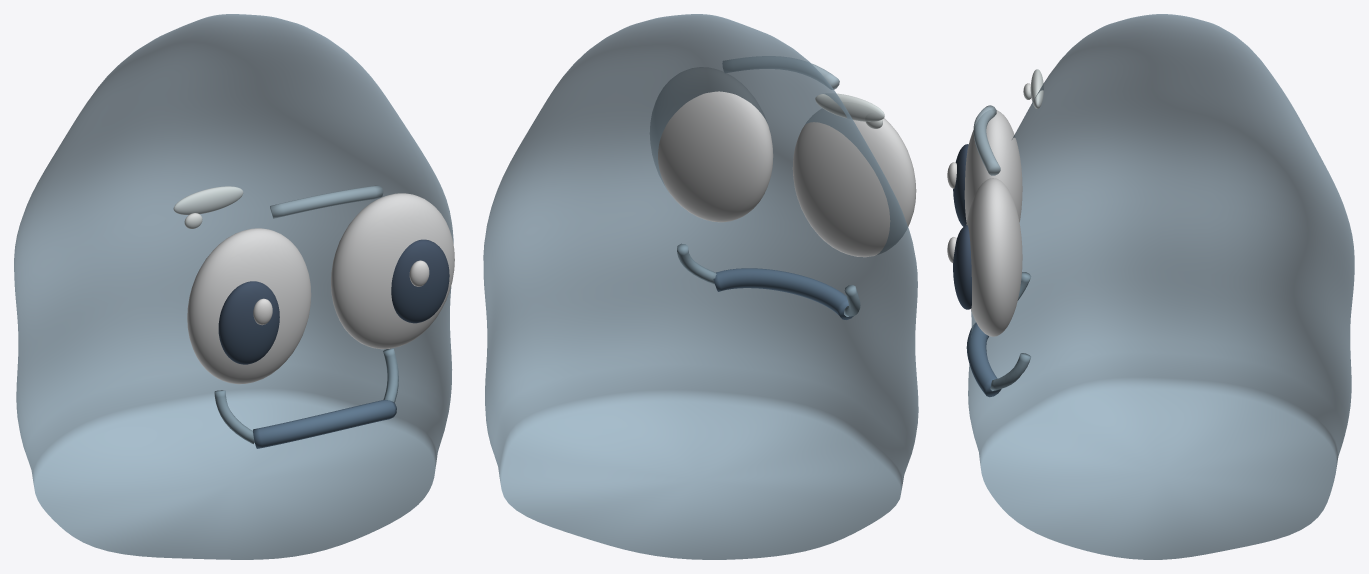
The model's file is stijfheidsslijm.glb.
The picture shows the model from 3 angles, left to right: view 1: azimuth 30°, elevation 25°; view 2: azimuth 150°, elevation 25°; view 3: azimuth 270°, elevation 25°; orthographic projection. The views are drawn at different scales.
Parts seen in each view (by area): view 1: stijfheidsslijm; view 2: stijfheidsslijm; view 3: stijfheidsslijm.
Boxes of the visible parts, x1,y1,x2,y2 form: stijfheidsslijm: [14, 14, 454, 559]; stijfheidsslijm: [483, 14, 918, 559]; stijfheidsslijm: [947, 14, 1354, 559].
Bounding box in the file's own units: 0.5392 × 0.6 × 0.4979.
